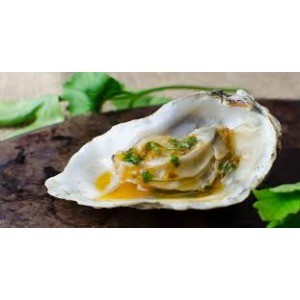oyster_brain food: (44, 94, 272, 219)
